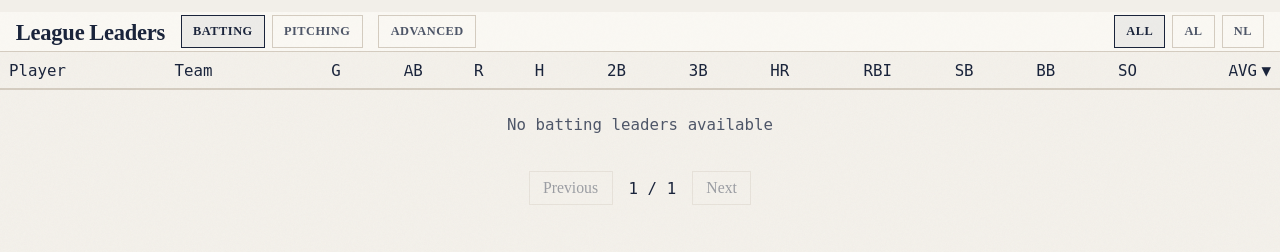
Test: StatsPage › switches to pitching tab
Click the tab "Pitching".
click(317, 32)  # box [272,16,363,48]
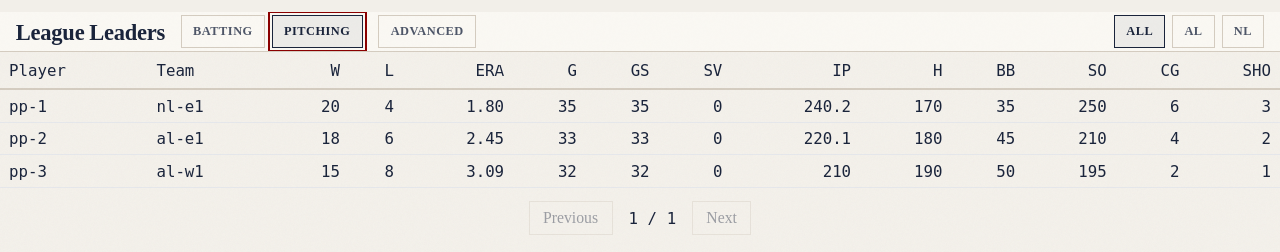
Expected: the column heading "ERA" is shown, [403,52,513,89]
